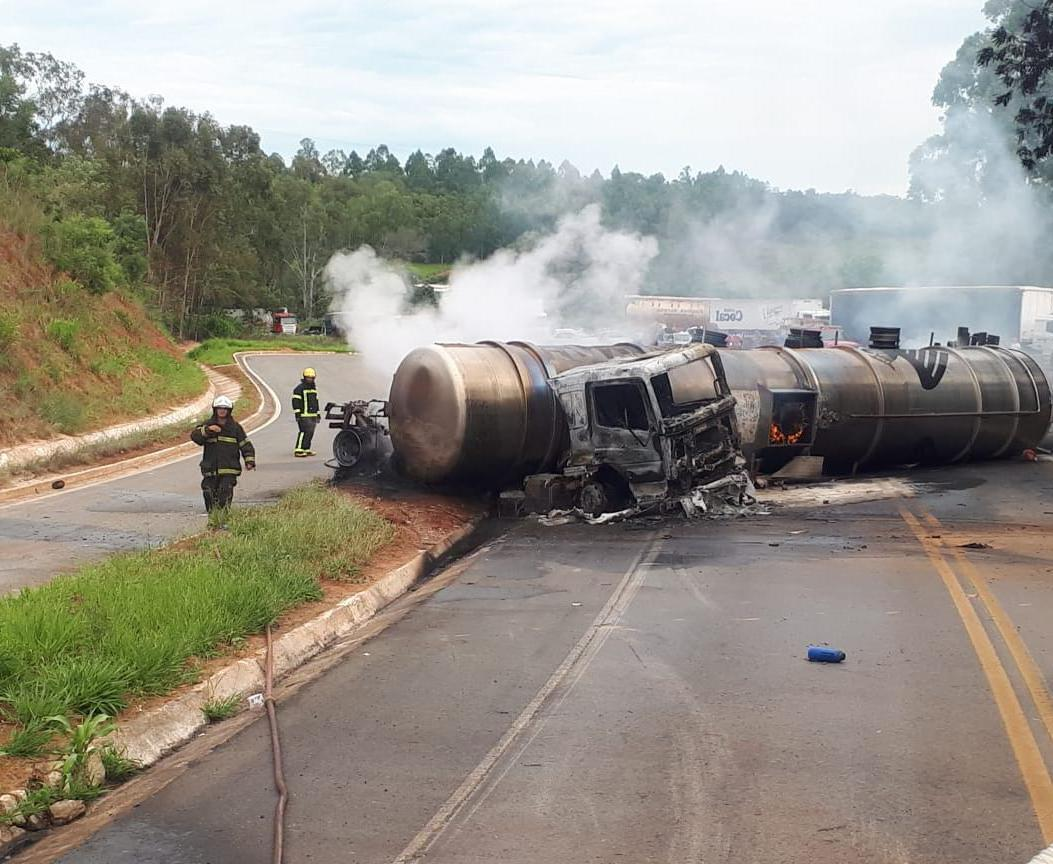Fire: (769, 426, 809, 443)
